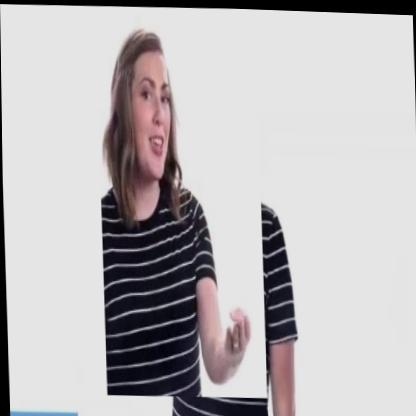ThankYou: (95, 9, 266, 399)
